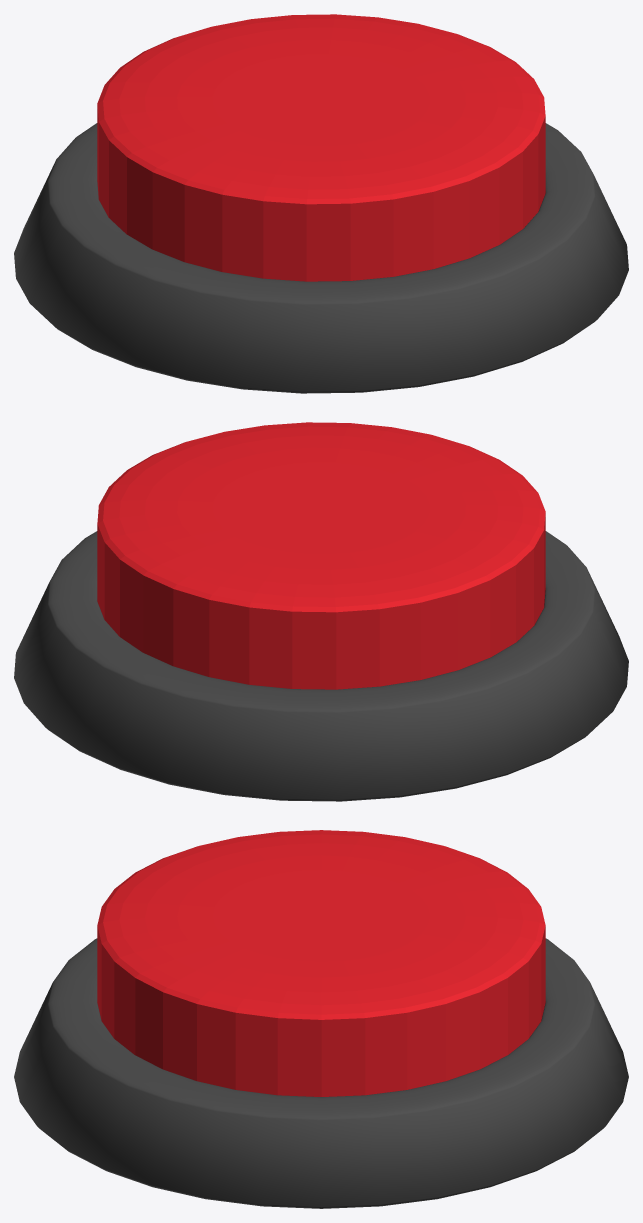
The model's file is Botaov1.fbx.
3 renders of one model, top to bottom at view 1: azimuth 30°, elevation 25°; view 2: azimuth 150°, elevation 25°; view 3: azimuth 270°, elevation 25°, orthographic.
Parts seen in each view (by area): view 1: Cylinder.001, Cylinder; view 2: Cylinder.001, Cylinder; view 3: Cylinder.001, Cylinder.
Boxes of the visible parts, x1,y1,x2,y2 form: Cylinder.001: (97,14,545,281); Cylinder: (14,123,628,393); Cylinder.001: (97,422,545,689); Cylinder: (14,531,628,801); Cylinder.001: (97,830,545,1096); Cylinder: (14,938,628,1208).
Size of the model in its own units: 225 by 69.32 by 225.
